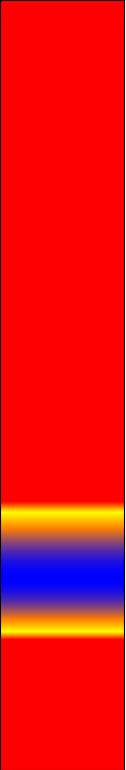Thermal Runaway: (8, 9, 118, 528), (5, 621, 121, 768)
critical: (8, 534, 118, 541)
safe: (5, 549, 119, 604)
